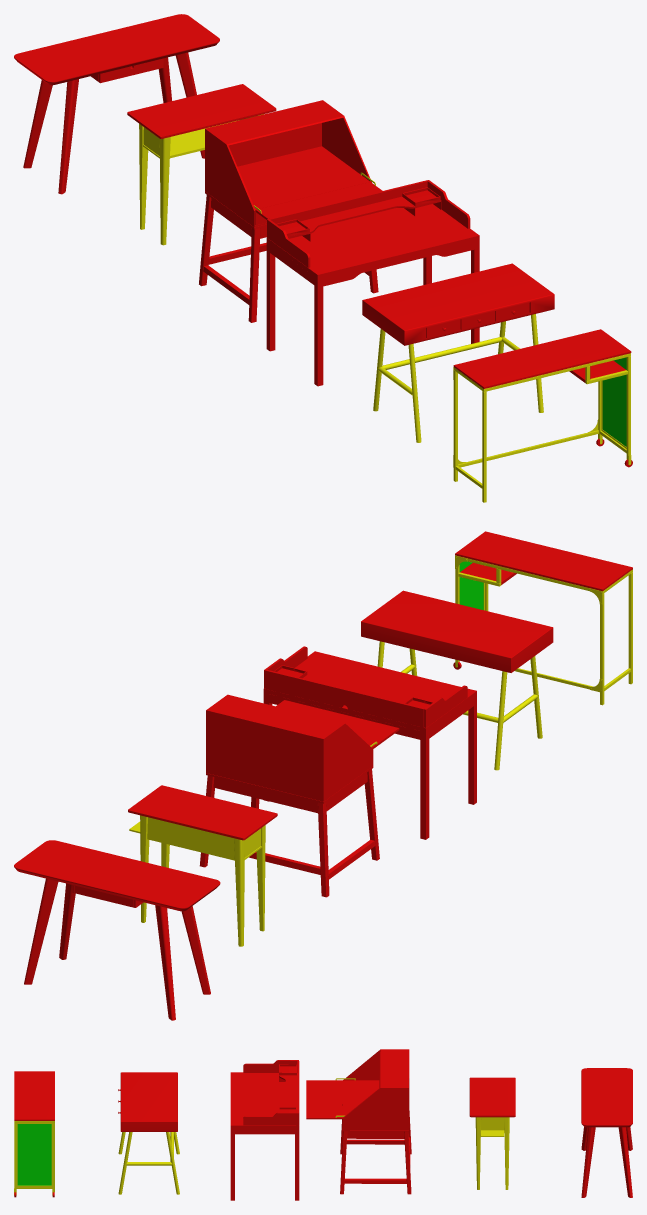
Rendered from thorkea_desks_grp.fbx.
3 renders of one model, top to bottom at view 1: azimuth 30°, elevation 25°; view 2: azimuth 150°, elevation 25°; view 3: azimuth 270°, elevation 25°, orthographic. The views are drawn at different scales.
Visible parts, largest first — view 1: thorkea_desk_alve, thorkea_desk_gustav, thorkea_desk_lillasen, thorkea_desk_fjallbo, thorkea_desk_lisabo, thorkea_desk_norrasen; view 2: thorkea_desk_alve, thorkea_desk_gustav, thorkea_desk_lisabo, thorkea_desk_lillasen, thorkea_desk_norrasen, thorkea_desk_fjallbo; view 3: thorkea_desk_alve, thorkea_desk_gustav, thorkea_desk_fjallbo, thorkea_desk_lillasen, thorkea_desk_lisabo, thorkea_desk_norrasen.
Boxes of the visible parts, <box> form: thorkea_desk_alve: <box>199,100,382,322</box>; thorkea_desk_gustav: <box>266,180,479,386</box>; thorkea_desk_lillasen: <box>362,263,554,442</box>; thorkea_desk_fjallbo: <box>453,329,632,502</box>; thorkea_desk_lisabo: <box>14,14,219,194</box>; thorkea_desk_norrasen: <box>127,84,276,245</box>; thorkea_desk_alve: <box>199,694,399,897</box>; thorkea_desk_gustav: <box>263,646,476,839</box>; thorkea_desk_lisabo: <box>14,840,220,1020</box>; thorkea_desk_lillasen: <box>361,590,553,770</box>; thorkea_desk_norrasen: <box>128,785,277,946</box>; thorkea_desk_fjallbo: <box>453,531,632,705</box>; thorkea_desk_alve: <box>306,1049,411,1194</box>; thorkea_desk_gustav: <box>230,1060,299,1200</box>; thorkea_desk_fjallbo: <box>14,1071,54,1197</box>; thorkea_desk_lillasen: <box>118,1072,179,1194</box>; thorkea_desk_lisabo: <box>581,1068,632,1197</box>; thorkea_desk_norrasen: <box>469,1077,515,1189</box>.
Size of the model in its own units: 118 by 101 by 541.
